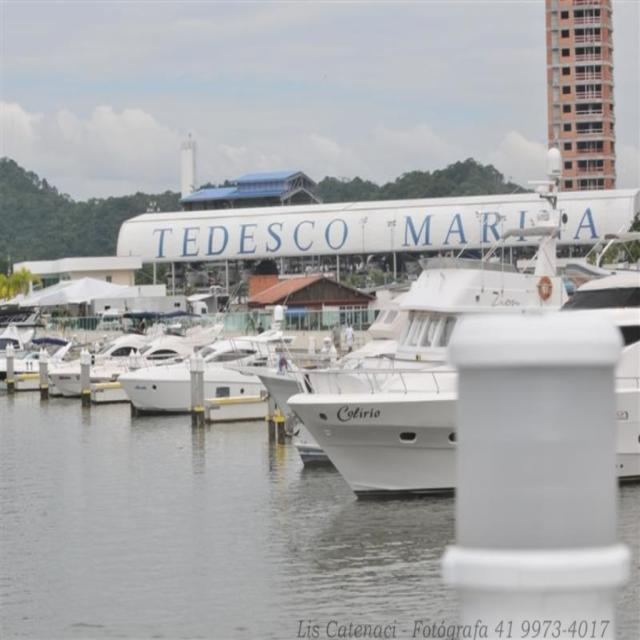Boat: (286, 266, 640, 502), (0, 306, 294, 427), (258, 272, 421, 424)
